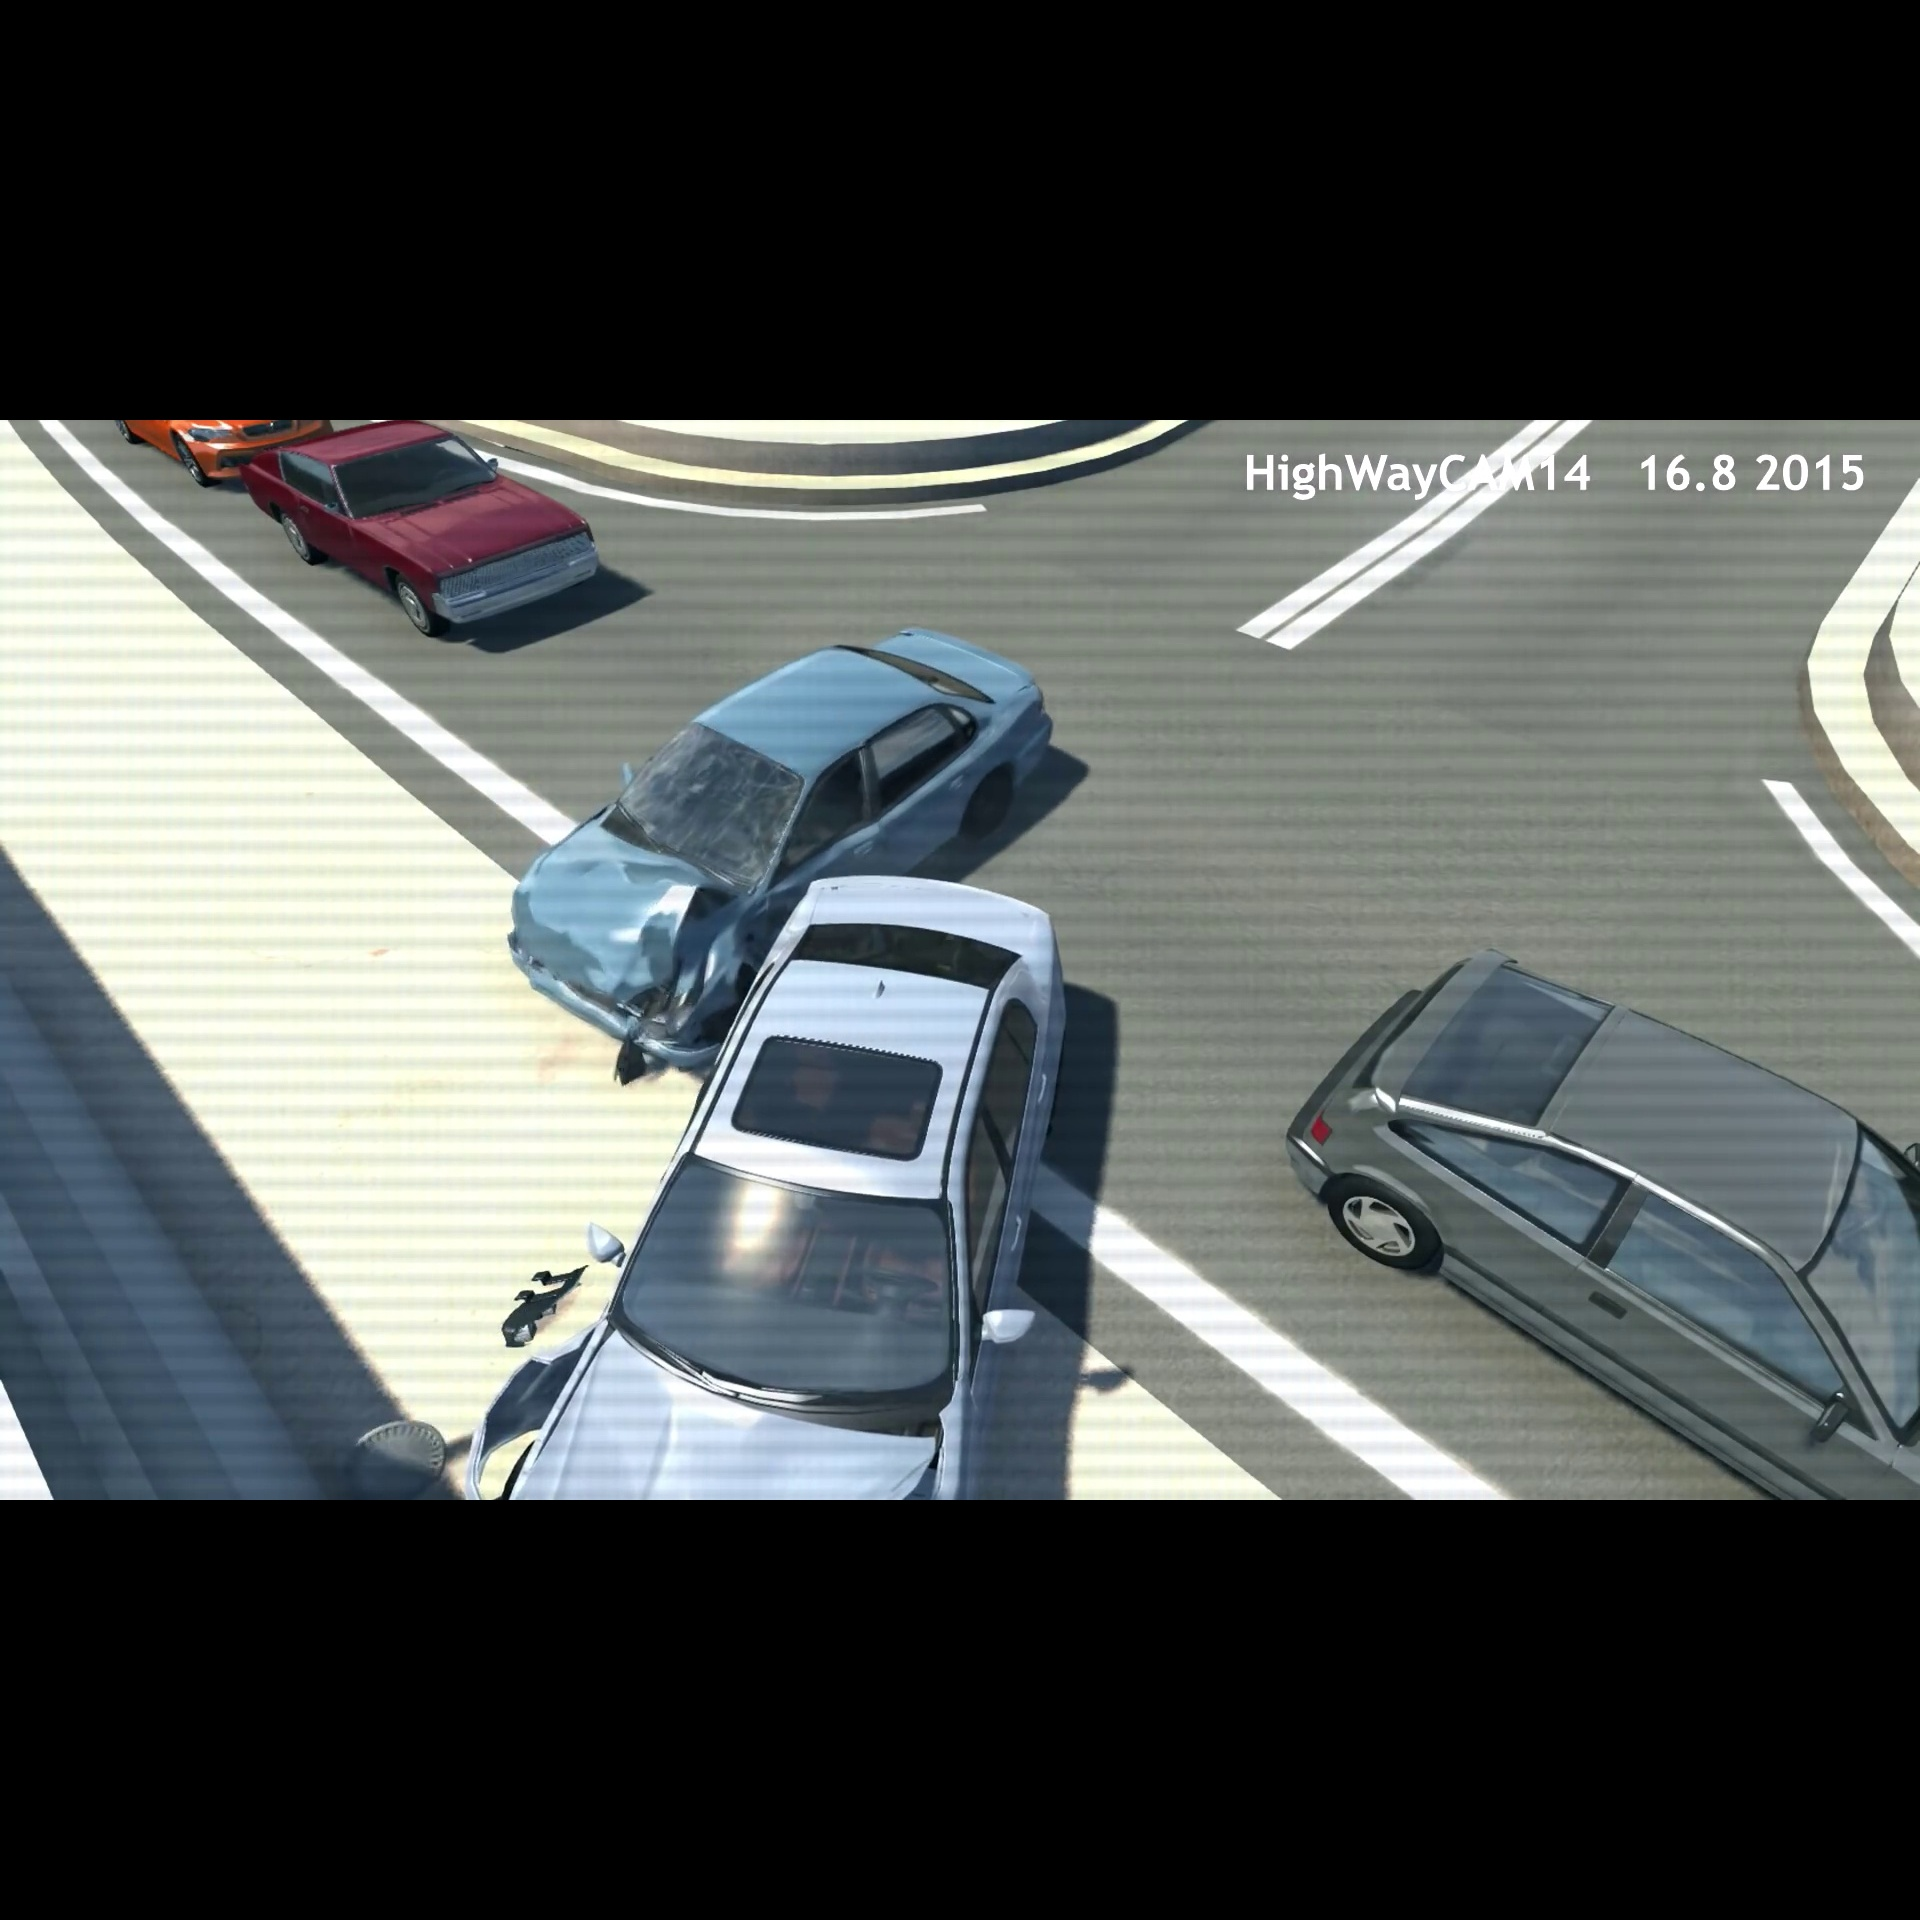vehicle: (1266, 925, 1920, 1500), (515, 869, 1087, 1507), (508, 617, 1067, 1065), (255, 420, 605, 642)
